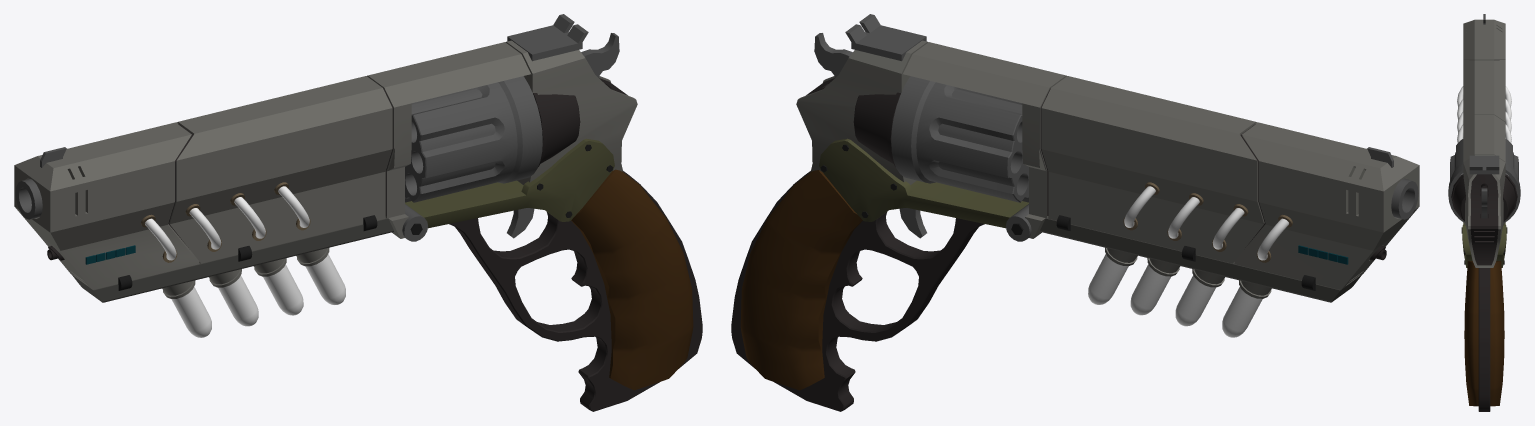
File: gun_sketchfab.fbx
3 renders of one model, left to right at view 1: azimuth 30°, elevation 25°; view 2: azimuth 150°, elevation 25°; view 3: azimuth 270°, elevation 25°, orthographic. The views are drawn at different scales.
Visible parts, largest first — view 1: Cube, Cube.004, Cylinder.008, Cube.005, Cube.002, Cube.001, Cylinder.013, Cube.003, Torus.003, Cylinder.010, Cube.009, Cylinder.002 (+2 smaller); view 2: Cube, Cube.004, Cylinder.008, Cube.005, Cube.002, Cube.001, Cylinder.013, Cube.003, Torus.003, Cylinder.010, Cube.009, Cylinder.002 (+2 smaller); view 3: Cube, Cube.004, Cube.001, Cube.005, Cylinder.008, Cylinder.010, Torus.003, Cube.009, Cube.002, Cube.007.
Part boxes in pixels (x1,y1,x2,y2): Cube: [14, 42, 530, 289]; Cube.004: [571, 169, 693, 390]; Cylinder.008: [405, 76, 542, 202]; Cube.005: [449, 171, 702, 411]; Cube.002: [405, 138, 614, 228]; Cube.001: [505, 40, 637, 184]; Cylinder.013: [171, 254, 345, 337]; Cube.003: [72, 217, 393, 302]; Torus.003: [141, 182, 310, 262]; Cylinder.010: [533, 93, 580, 166]; Cube.009: [507, 14, 588, 61]; Cylinder.002: [162, 248, 329, 298]; Cube: [903, 42, 1419, 289]; Cube.004: [740, 170, 862, 390]; Cylinder.008: [891, 76, 1028, 202]; Cube.005: [731, 171, 984, 411]; Cube.002: [819, 138, 1028, 228]; Cube.001: [796, 40, 928, 184]; Cylinder.013: [1088, 254, 1262, 337]; Cube.003: [1040, 217, 1361, 302]; Torus.003: [1123, 182, 1292, 262]; Cylinder.010: [853, 92, 900, 166]; Cube.009: [845, 14, 926, 61]; Cylinder.002: [1105, 247, 1271, 298]; Cube: [1463, 19, 1505, 161]; Cube.004: [1464, 261, 1504, 406]; Cube.001: [1463, 154, 1505, 267]; Cube.005: [1478, 268, 1490, 411]; Cylinder.008: [1448, 139, 1520, 222]; Cylinder.010: [1451, 174, 1517, 221]; Torus.003: [1457, 86, 1511, 142]; Cube.009: [1469, 155, 1499, 174]; Cube.002: [1462, 222, 1506, 267]; Cube.007: [1481, 188, 1487, 218].
Bounding box in the file's own units: 25.1 × 13.86 × 3.95.
